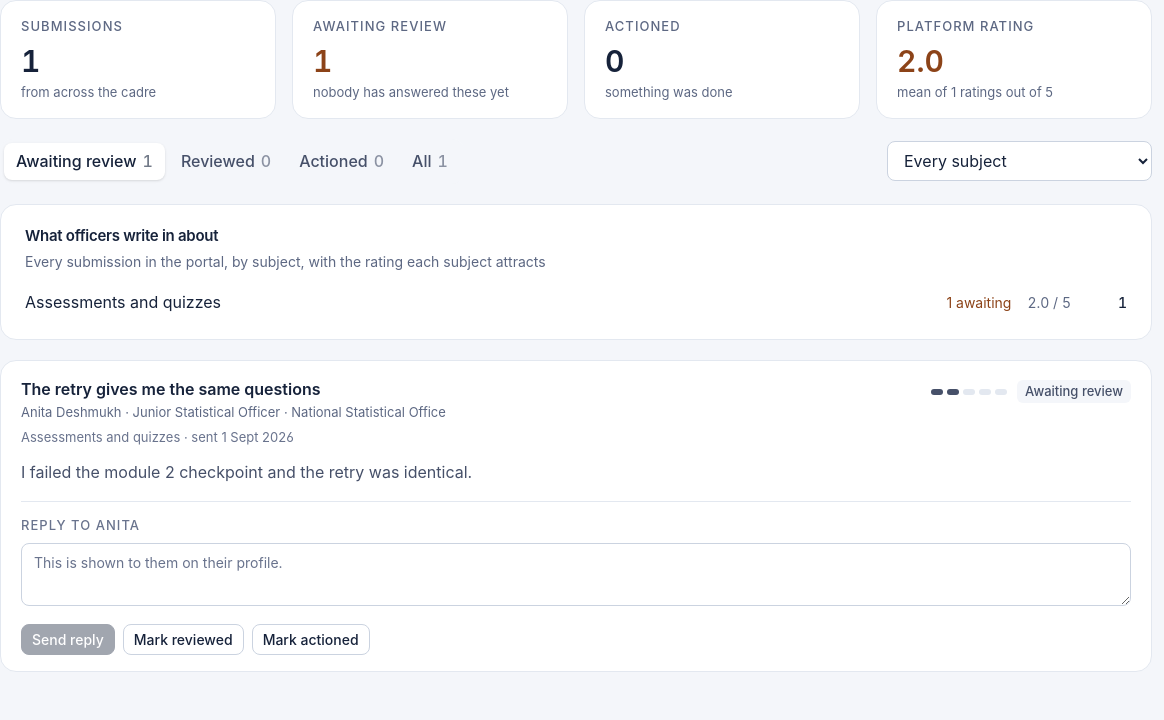
Test: AdminFeedback › marks a submission reviewed
Click the button "Mark reviewed" at (183, 640), box [123,624,244,655]
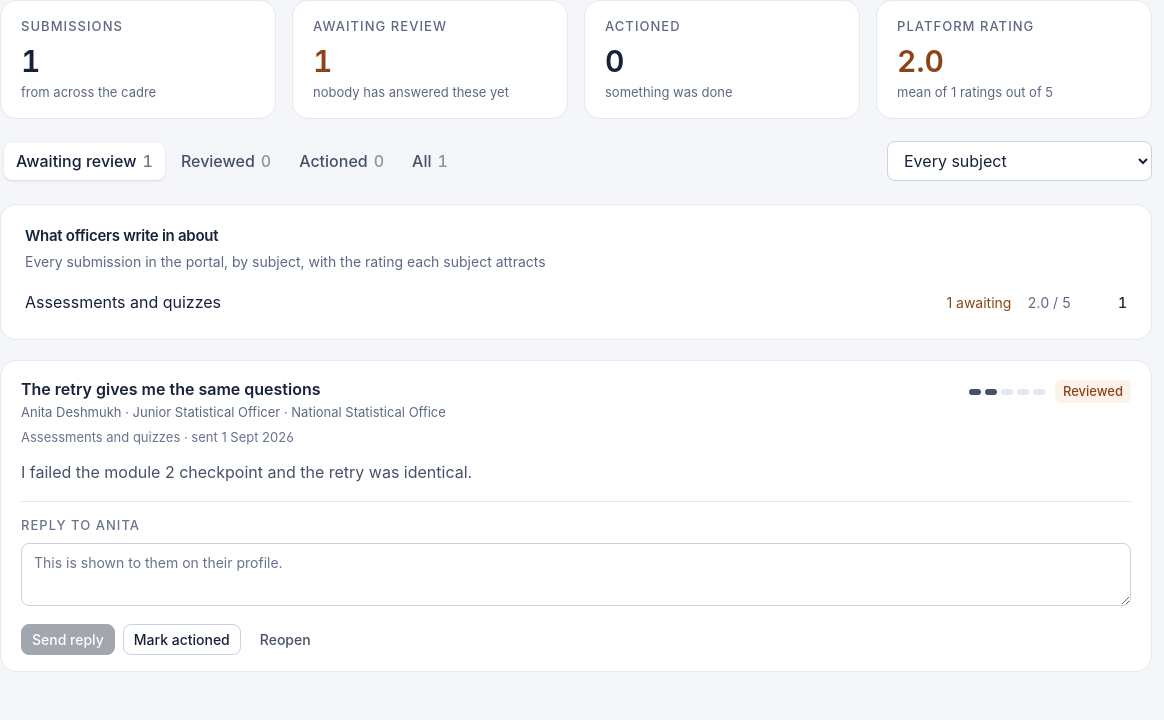
Expected: the text "Reviewed" is shown, [1055,380,1131,403]
Expected: the button "Mark reviewed" is gone
